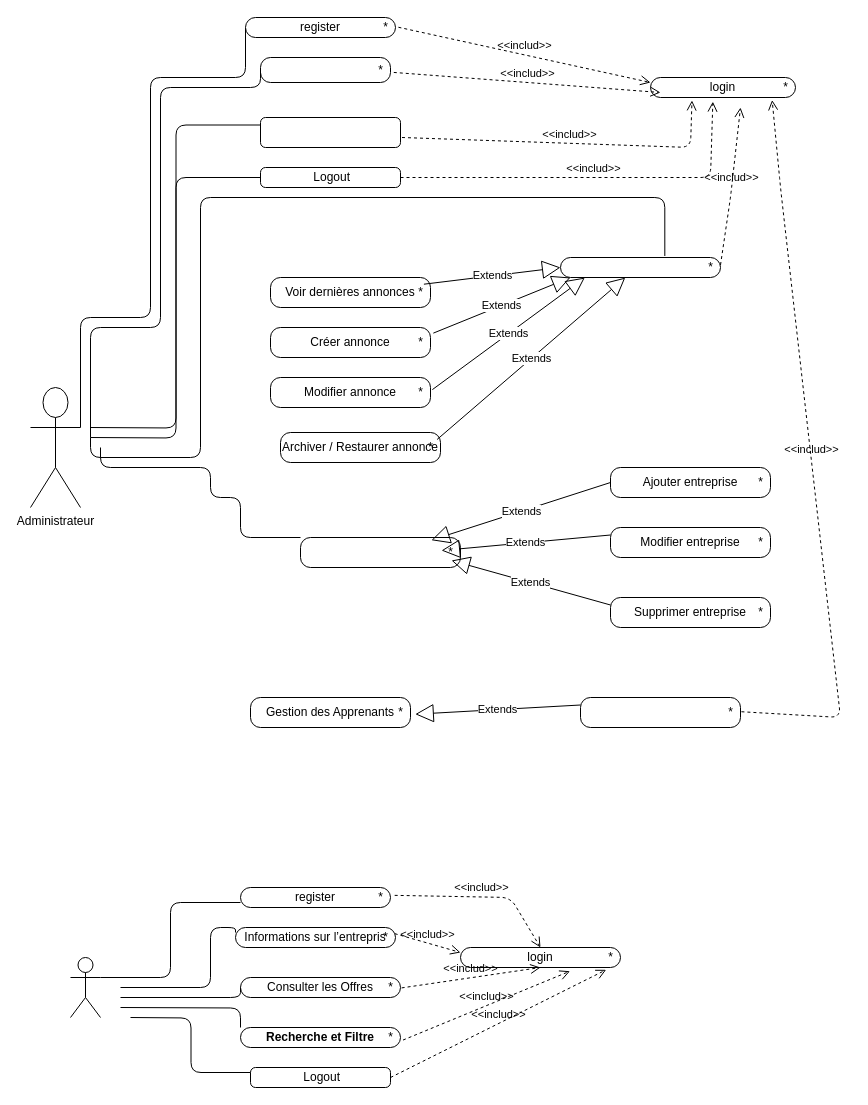
Image size: 868x1105. Some labels were removed from this diagram. The shapes that lost their labels are listed below. From the top down, each one's centre as x and y in pixels, then its label:
At point (325, 69): "Voir statistiques globales".
At point (330, 132): "Gestion de session sécurisée".
At point (640, 267): "Gestion des Annonces".
At point (380, 552): "Gestion des Entreprises".
At point (660, 712): "Consulter liste des apprenants".
At point (85, 987): "Apprenant".
